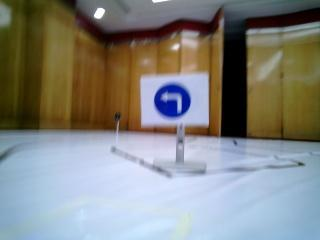left: (143, 77, 210, 121)
